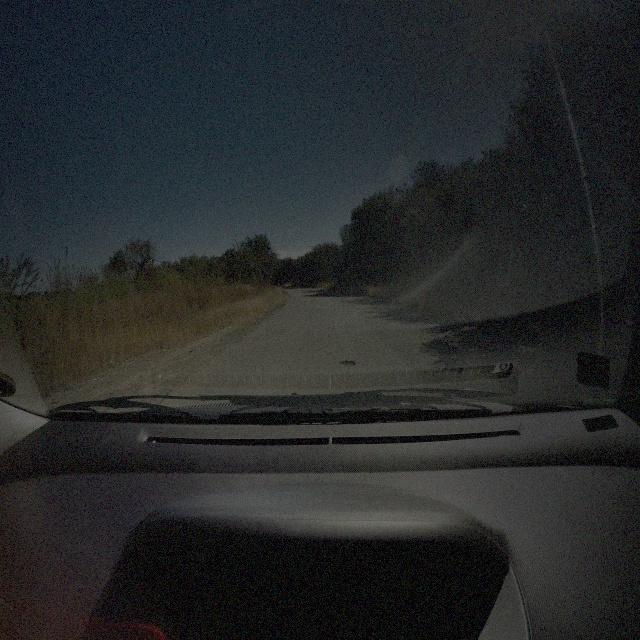pothole: (340, 360, 357, 368)
